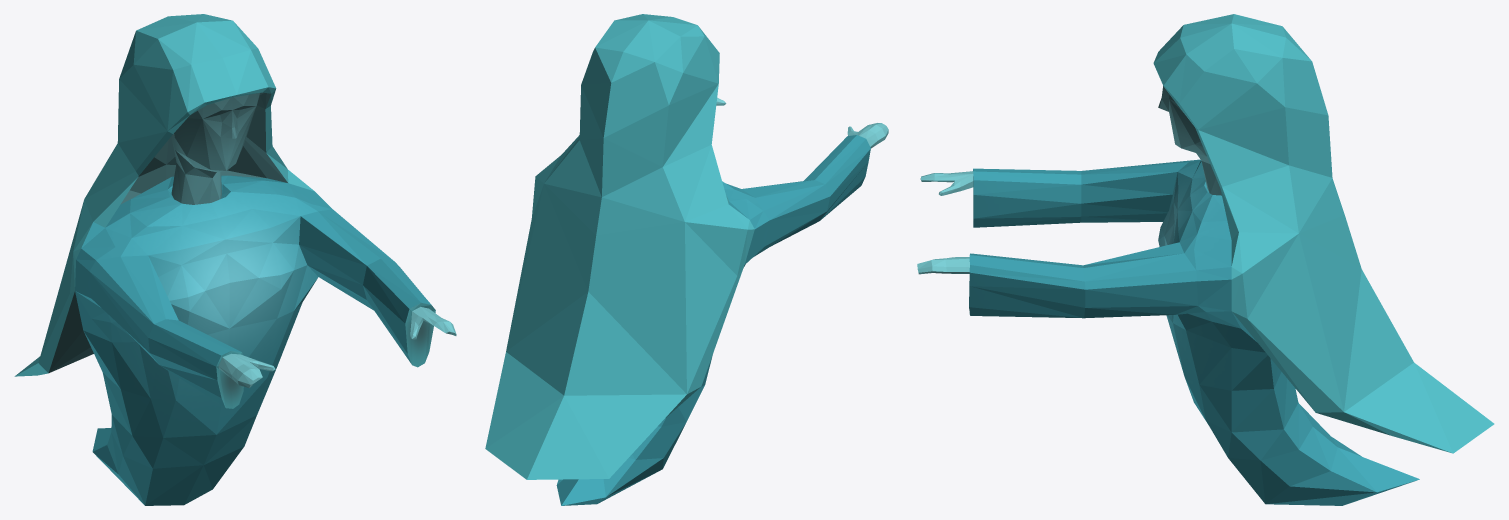
Rendered from WraithBlue.fbx.
3 renders of one model, left to right at view 1: azimuth 30°, elevation 25°; view 2: azimuth 150°, elevation 25°; view 3: azimuth 270°, elevation 25°, orthographic. The views are drawn at different scales.
Parts seen in each view (by area): view 1: Wright; view 2: Wright; view 3: Wright.
Part boxes in pixels (bbox=[...]): Wright: bbox=[14, 14, 456, 505]; Wright: bbox=[485, 14, 888, 505]; Wright: bbox=[917, 14, 1494, 505].
Size of the model in its own units: 2.76 by 5.28 by 5.73.
